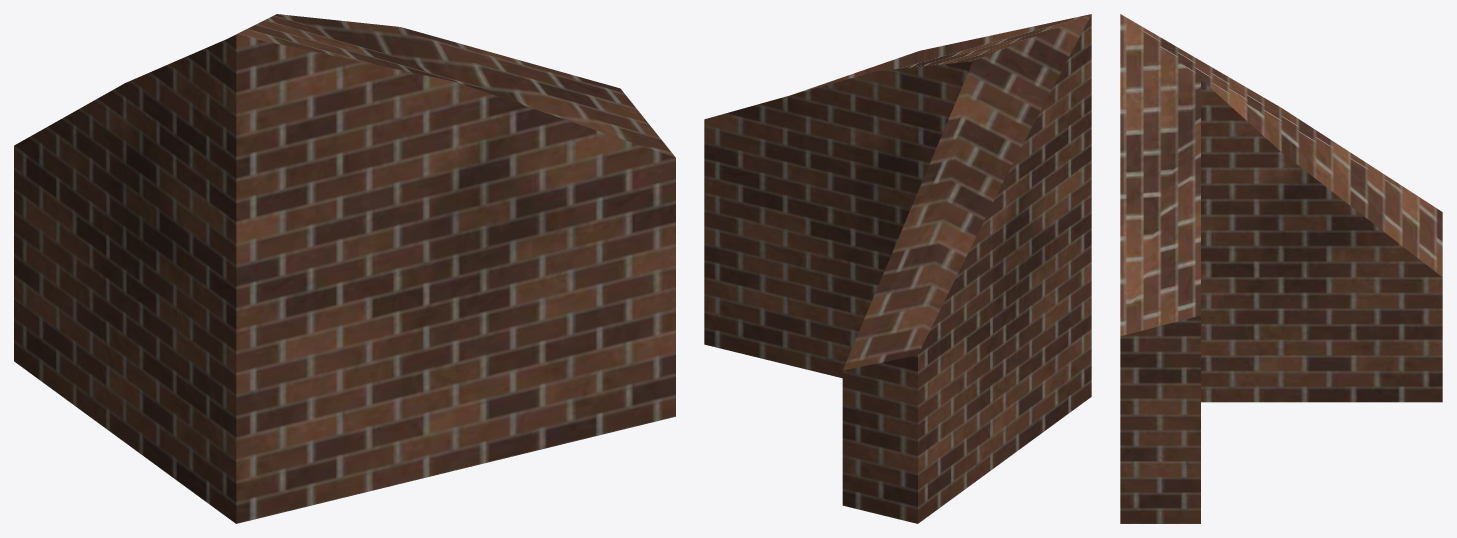
File: debris_seattle_brick_corner.glb
3 views of the same model, side by side, from view 1: azimuth 30°, elevation 25°; view 2: azimuth 150°, elevation 25°; view 3: azimuth 270°, elevation 25° (orthographic). The views are drawn at different scales.
Parts seen in each view (by area): view 1: debris_seattle_brick_corner; view 2: debris_seattle_brick_corner; view 3: debris_seattle_brick_corner.
Boxes of the visible parts, left/top/right/bottom form: debris_seattle_brick_corner: left=14, top=14, right=675, bottom=523; debris_seattle_brick_corner: left=704, top=14, right=1091, bottom=523; debris_seattle_brick_corner: left=1120, top=14, right=1442, bottom=523.
Bounding box in the file's own units: 1.6 × 1.7 × 1.4.
Materials: 1 (1 with a texture image).
